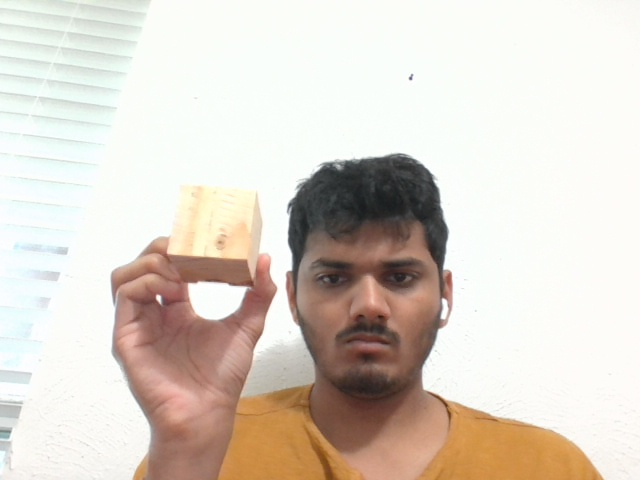NormalBlock: (168, 183, 261, 283)
